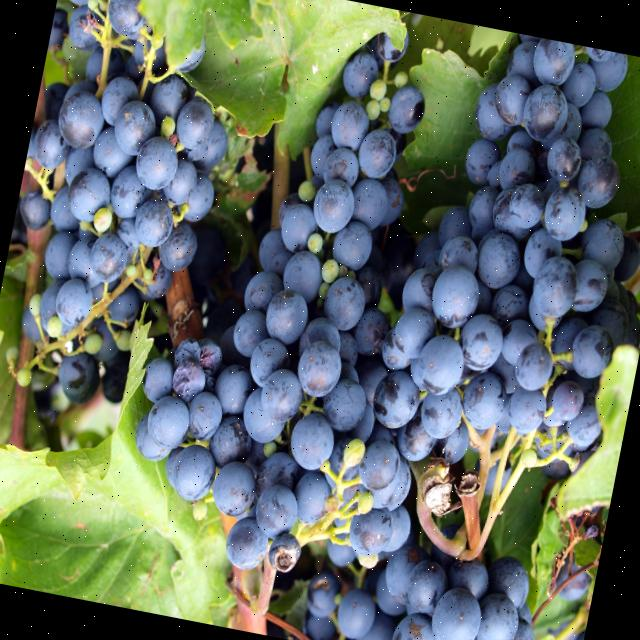grape: (141, 32, 470, 598), (394, 35, 638, 446), (16, 0, 226, 403), (392, 558, 533, 640), (378, 266, 405, 328)
